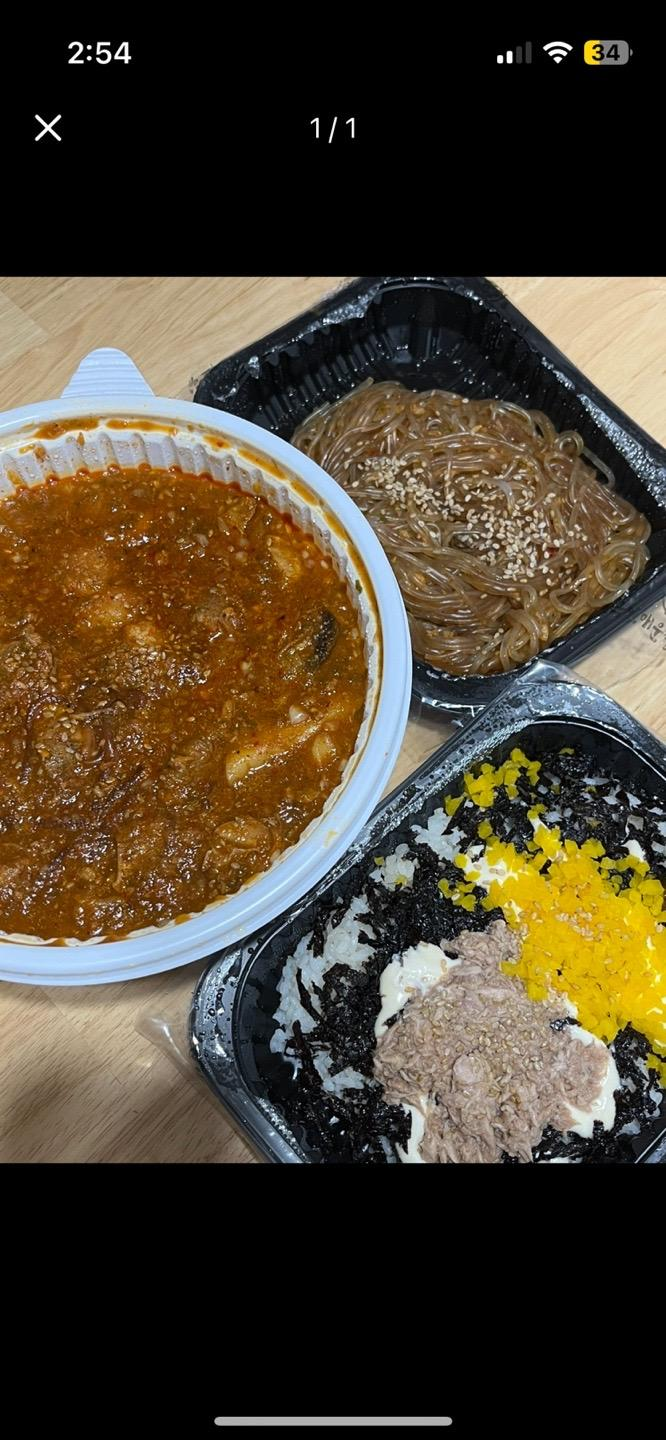Lunch Box: (0, 348, 410, 985), (191, 670, 665, 1163), (194, 278, 665, 714)
